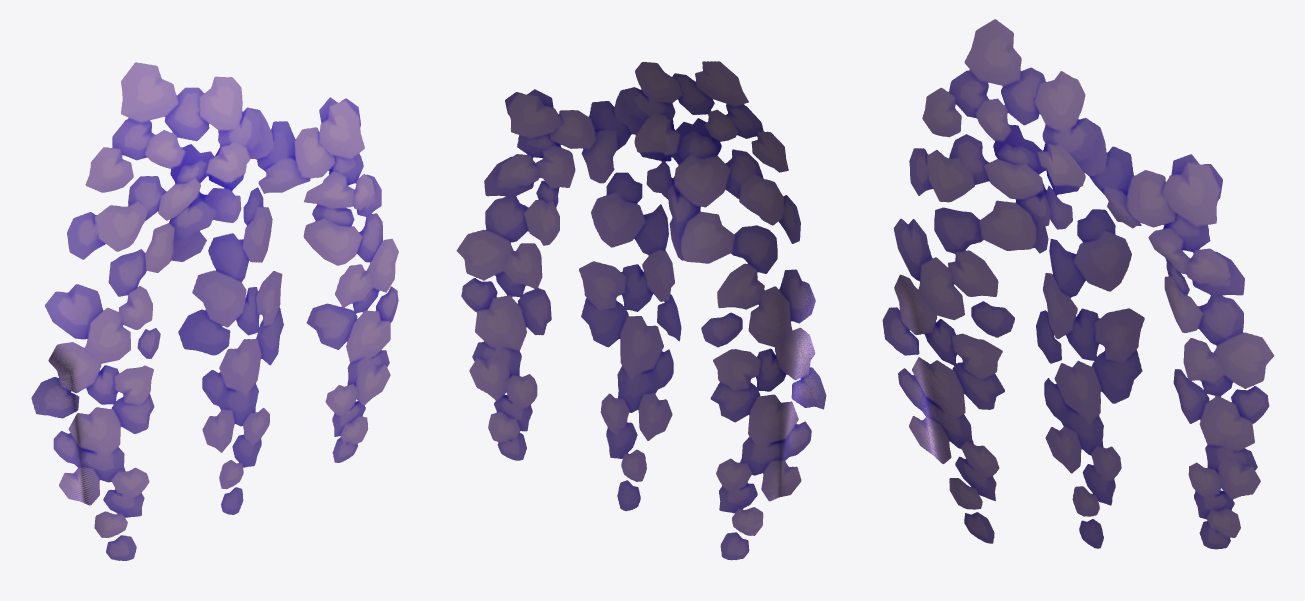
File: SM_Env_Flowers_Clump_02.fbx
3 views of the same model, side by side, from view 1: azimuth 30°, elevation 25°; view 2: azimuth 150°, elevation 25°; view 3: azimuth 330°, elevation 25° (orthographic). The views are drawn at different scales.
Parts seen in each view (by area): view 1: SM_Env_Flowers_Clump_02; view 2: SM_Env_Flowers_Clump_02; view 3: SM_Env_Flowers_Clump_02.
Boxes of the visible parts, x1,y1,x2,y2 form: SM_Env_Flowers_Clump_02: (31,62,398,560); SM_Env_Flowers_Clump_02: (456,61,826,560); SM_Env_Flowers_Clump_02: (882,19,1274,549).
Bounding box in the file's own units: 76.45 × 102 × 6.76.
